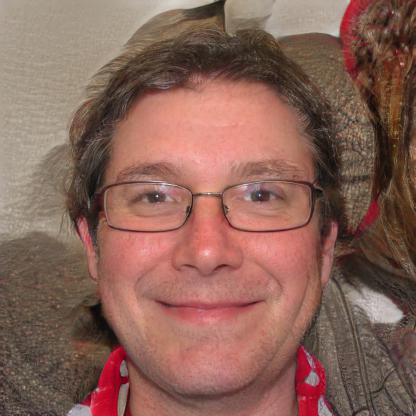glasses: (93, 176, 324, 236)
